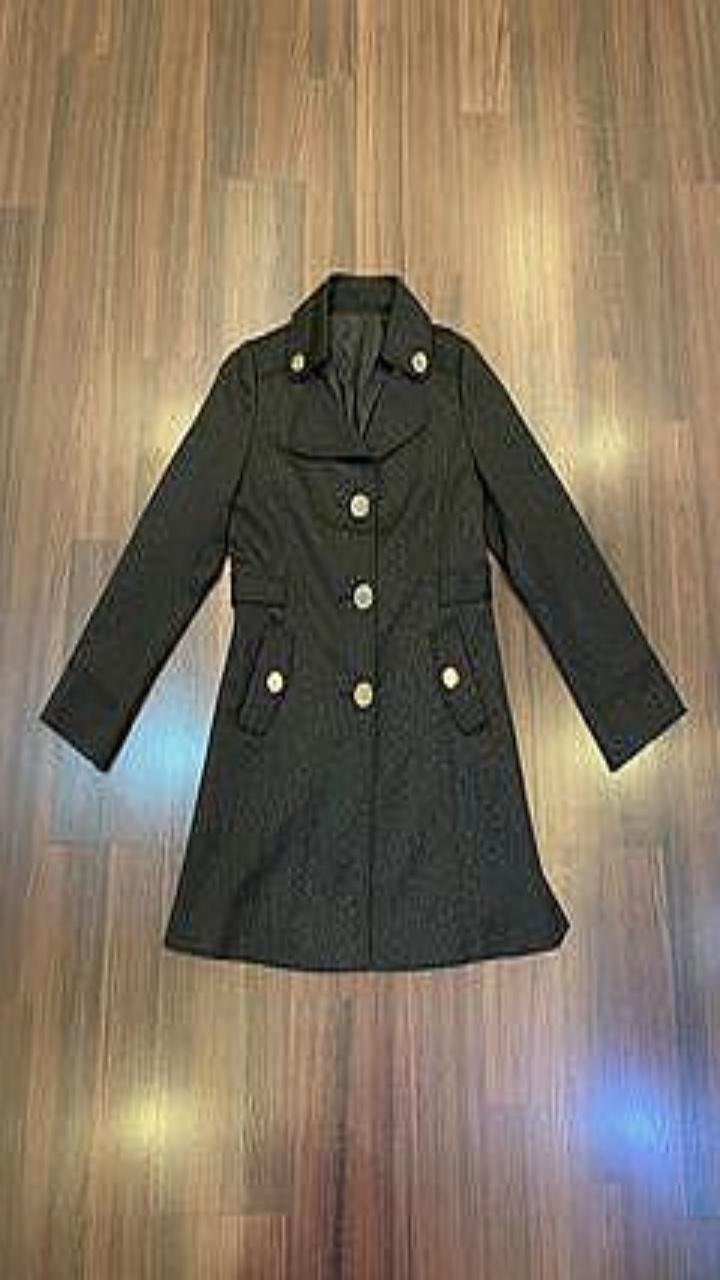Coat: (40, 271, 686, 969)
